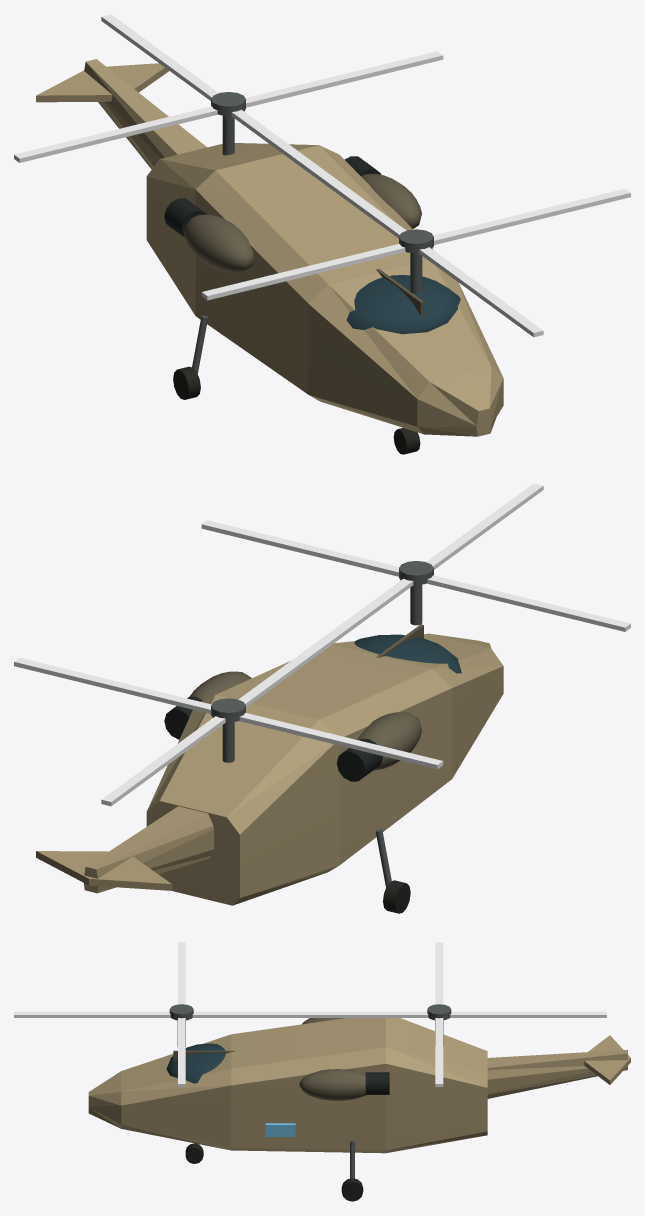
File: transport.glb
3 renders of one model, top to bottom at view 1: azimuth 30°, elevation 25°; view 2: azimuth 150°, elevation 25°; view 3: azimuth 270°, elevation 25°, orthographic. The views are drawn at different scales.
Parts seen in each view (by area): view 1: armor, equipment (×4), glass; view 2: armor, equipment (×4), glass; view 3: armor, equipment (×4), glass, marking.
Boxes of the visible parts, x1=… form: armor: x1=36, y1=59, x2=503, y2=436; equipment (×4): x1=14, y1=14, x2=630, y2=454; glass: x1=346, y1=275, x2=460, y2=334; armor: x1=36, y1=633, x2=503, y2=905; equipment (×4): x1=14, y1=483, x2=630, y2=913; glass: x1=354, y1=634, x2=461, y2=673; armor: x1=88, y1=1018, x2=630, y2=1153; equipment (×4): x1=14, y1=942, x2=606, y2=1201; glass: x1=166, y1=1043, x2=225, y2=1083; marking: x1=265, y1=1123, x2=295, y2=1136.
Size of the model in its own units: 5.6 by 2.86 by 10.3.
